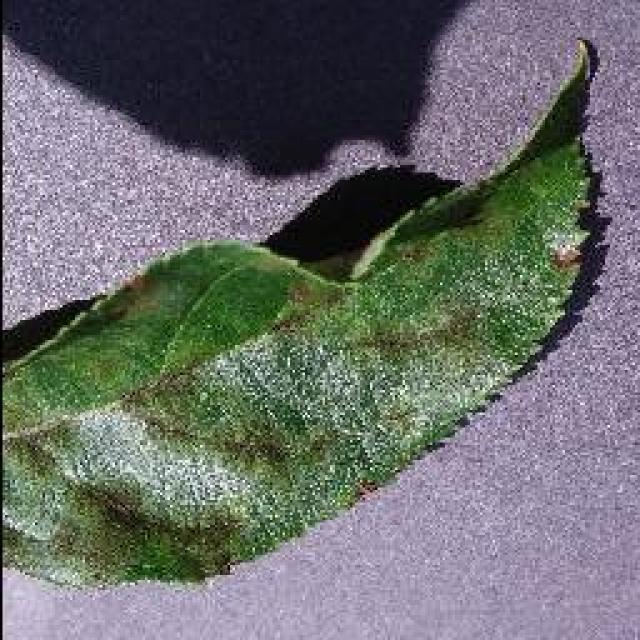apple scab disease: (0, 32, 605, 590)
